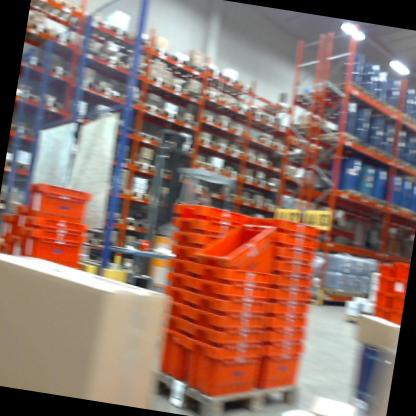forklift: (113, 115, 214, 308)
pallet: (140, 346, 307, 416), (309, 123, 360, 155), (163, 57, 207, 87), (157, 48, 190, 81), (94, 22, 133, 49), (328, 76, 364, 104), (138, 37, 174, 62), (20, 50, 48, 81), (90, 51, 126, 75), (49, 0, 81, 26), (196, 59, 224, 88), (45, 57, 72, 86), (291, 84, 325, 107), (218, 68, 245, 96), (280, 144, 314, 166), (124, 59, 152, 85), (141, 69, 170, 94), (287, 118, 316, 140), (48, 24, 76, 45), (338, 307, 362, 331), (155, 105, 181, 126), (103, 182, 130, 202), (15, 88, 43, 107), (37, 95, 64, 113), (210, 136, 232, 157), (10, 121, 34, 140), (228, 99, 251, 118), (27, 20, 48, 40), (129, 158, 153, 175), (30, 0, 54, 17), (197, 89, 221, 106), (114, 122, 139, 138), (108, 150, 131, 167), (4, 159, 28, 175), (169, 76, 190, 94), (84, 83, 110, 97), (106, 87, 127, 104), (212, 118, 233, 135), (141, 100, 162, 116), (247, 107, 267, 122), (225, 146, 243, 162), (122, 96, 143, 109), (207, 159, 224, 174), (199, 109, 217, 123), (253, 175, 269, 190), (126, 190, 145, 202), (229, 125, 248, 137), (268, 139, 283, 153)
small_load_carrier: (183, 334, 266, 408), (240, 210, 321, 274), (209, 215, 286, 281), (25, 174, 94, 226), (251, 337, 313, 388), (21, 226, 91, 267), (197, 258, 277, 293), (150, 327, 199, 382), (193, 321, 264, 352), (195, 308, 270, 336), (195, 294, 272, 319), (197, 281, 273, 306), (173, 198, 246, 224), (22, 211, 94, 237), (170, 213, 234, 241), (168, 231, 231, 252), (264, 231, 319, 253), (164, 269, 211, 294), (157, 298, 203, 323), (265, 293, 309, 319), (263, 257, 315, 279), (266, 324, 307, 351), (265, 245, 317, 265), (157, 314, 202, 335), (161, 287, 208, 307), (166, 242, 212, 260), (271, 284, 313, 303), (263, 313, 309, 330), (0, 228, 24, 257), (273, 273, 312, 290), (168, 258, 206, 275), (3, 209, 27, 233), (373, 270, 397, 293), (371, 289, 395, 310), (374, 260, 395, 281), (369, 306, 390, 326), (393, 259, 409, 284), (387, 310, 402, 328), (391, 294, 404, 312), (394, 279, 406, 296)
